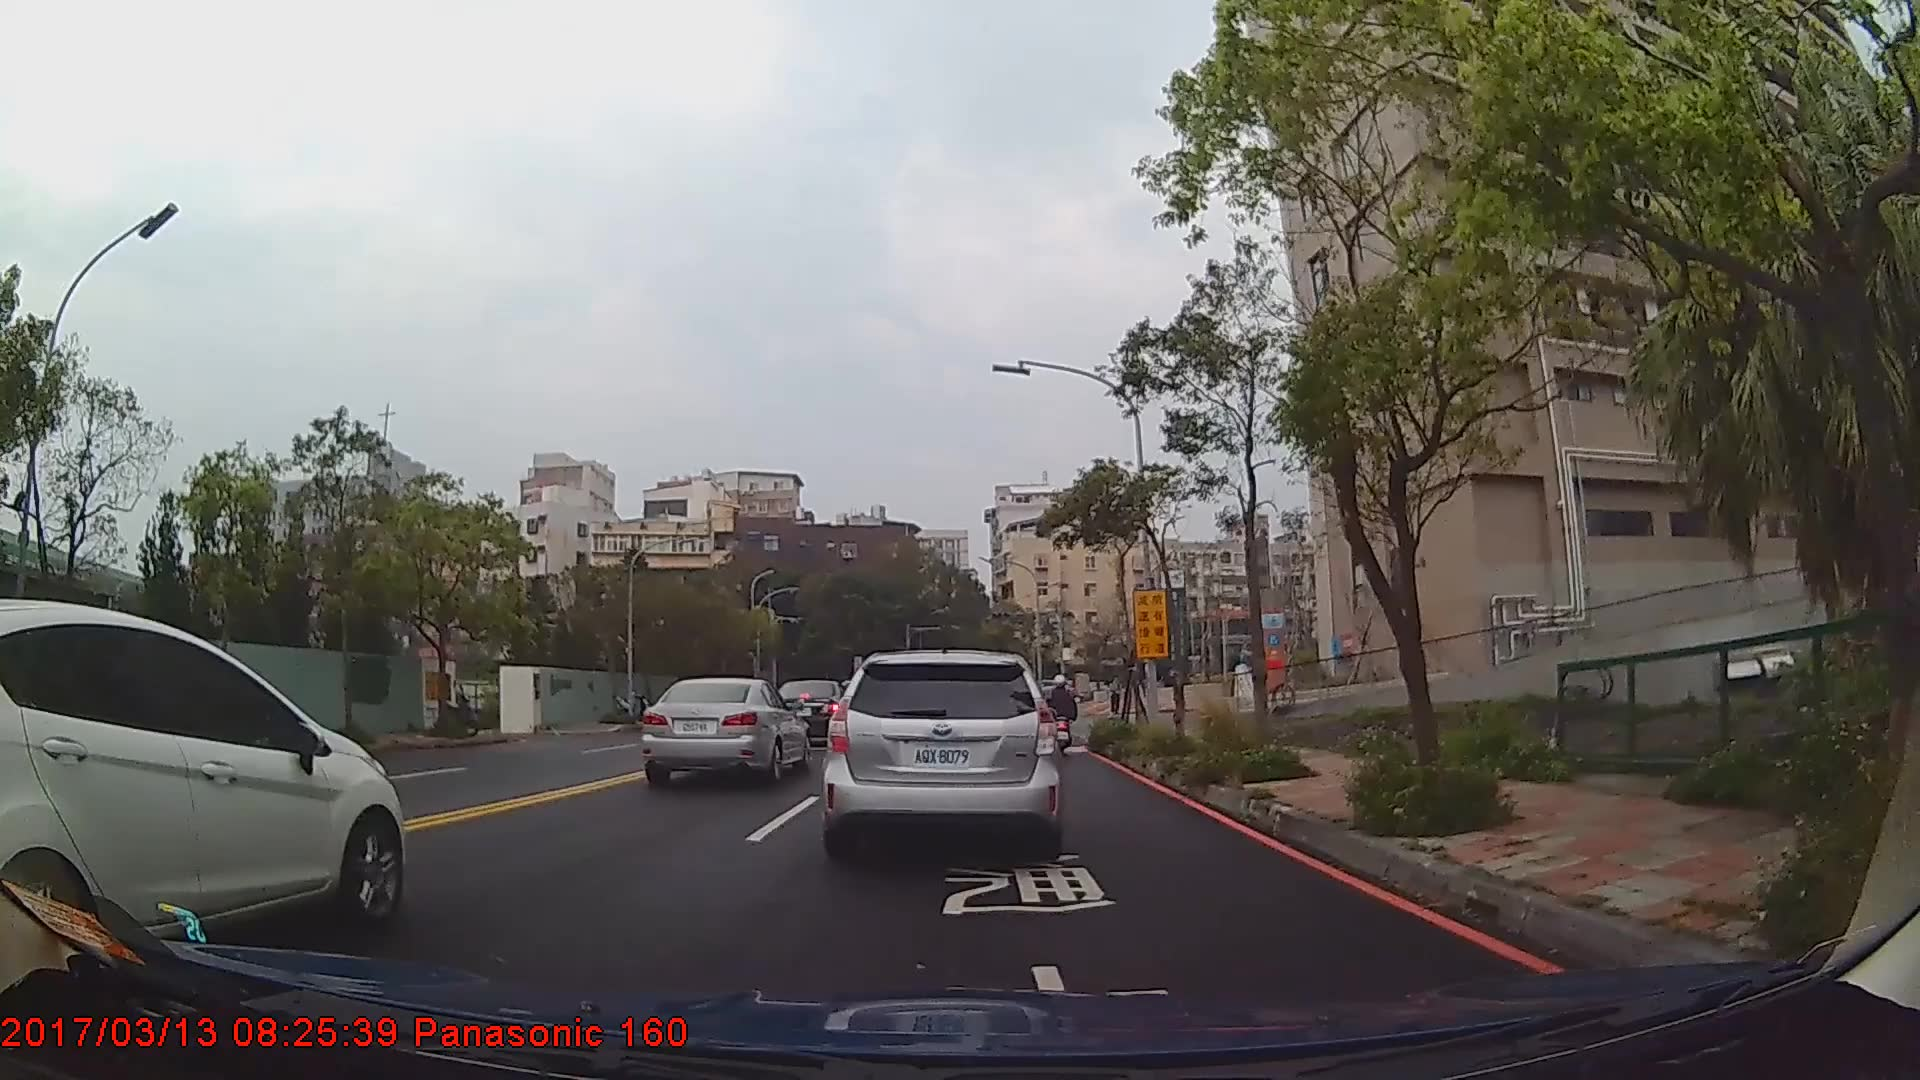rider: (1049, 677, 1080, 757)
vehicle: (0, 595, 406, 975), (823, 649, 1064, 846), (641, 676, 809, 787), (772, 678, 856, 745)
